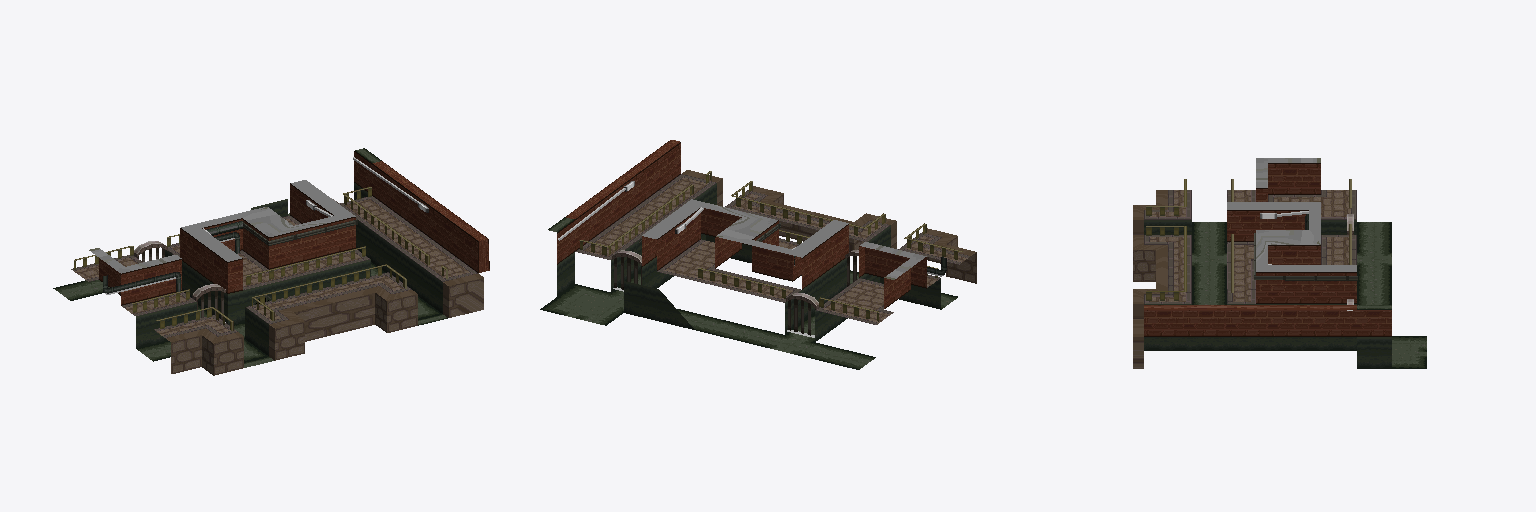
The picture shows the model from 3 angles: view 1: azimuth 30°, elevation 25°; view 2: azimuth 150°, elevation 25°; view 3: azimuth 270°, elevation 25°; orthographic projection.
Visible parts, largest first — view 1: polygon2, polygon3, polygon0, polygon1, polygon4, polygon7, polygon16, polygon15, polygon5; view 2: polygon3, polygon2, polygon0, polygon16, polygon1, polygon4, polygon7, polygon5, polygon17; view 3: polygon3, polygon2, polygon16, polygon0, polygon4, polygon1, polygon7, polygon15.
Part boxes in pixels (left/top/right/bottom): polygon2: left=74, top=199, right=483, bottom=375; polygon3: left=99, top=151, right=489, bottom=305; polygon0: left=136, top=183, right=442, bottom=355; polygon1: left=71, top=196, right=477, bottom=337; polygon4: left=89, top=180, right=355, bottom=273; polygon7: left=74, top=187, right=447, bottom=330; polygon16: left=53, top=148, right=447, bottom=367; polygon15: left=103, top=219, right=357, bottom=293; polygon5: left=134, top=198, right=340, bottom=319; polygon3: left=557, top=140, right=926, bottom=308; polygon2: left=584, top=170, right=976, bottom=322; polygon0: left=557, top=183, right=940, bottom=341; polygon16: left=540, top=217, right=957, bottom=369; polygon1: left=575, top=174, right=969, bottom=324; polygon4: left=642, top=199, right=926, bottom=279; polygon7: left=579, top=171, right=962, bottom=321; polygon5: left=612, top=250, right=858, bottom=335; polygon17: left=567, top=295, right=615, bottom=315; polygon3: left=1144, top=163, right=1391, bottom=336; polygon2: left=1133, top=190, right=1350, bottom=368; polygon16: left=1192, top=222, right=1426, bottom=368; polygon0: left=1144, top=220, right=1391, bottom=368; polygon4: left=1227, top=158, right=1356, bottom=271; polygon1: left=1144, top=190, right=1356, bottom=303; polygon7: left=1146, top=179, right=1351, bottom=300; polygon15: left=1254, top=214, right=1357, bottom=280.
Size of the model in its own units: 8.12 by 1.75 by 6.25.
Materials: 18 (16 with a texture image).